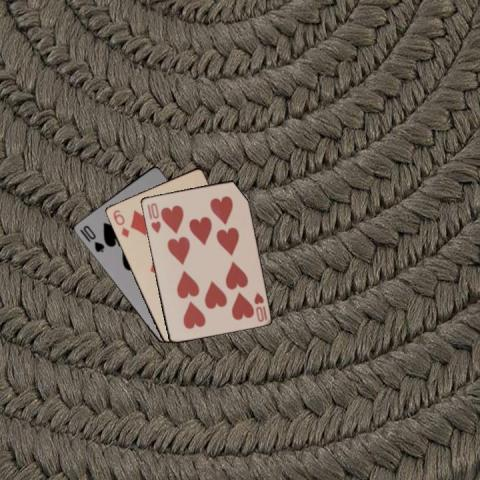10h: (144, 199, 162, 235), (250, 290, 269, 324)
10s: (80, 223, 105, 253)
6d: (110, 206, 131, 238)
